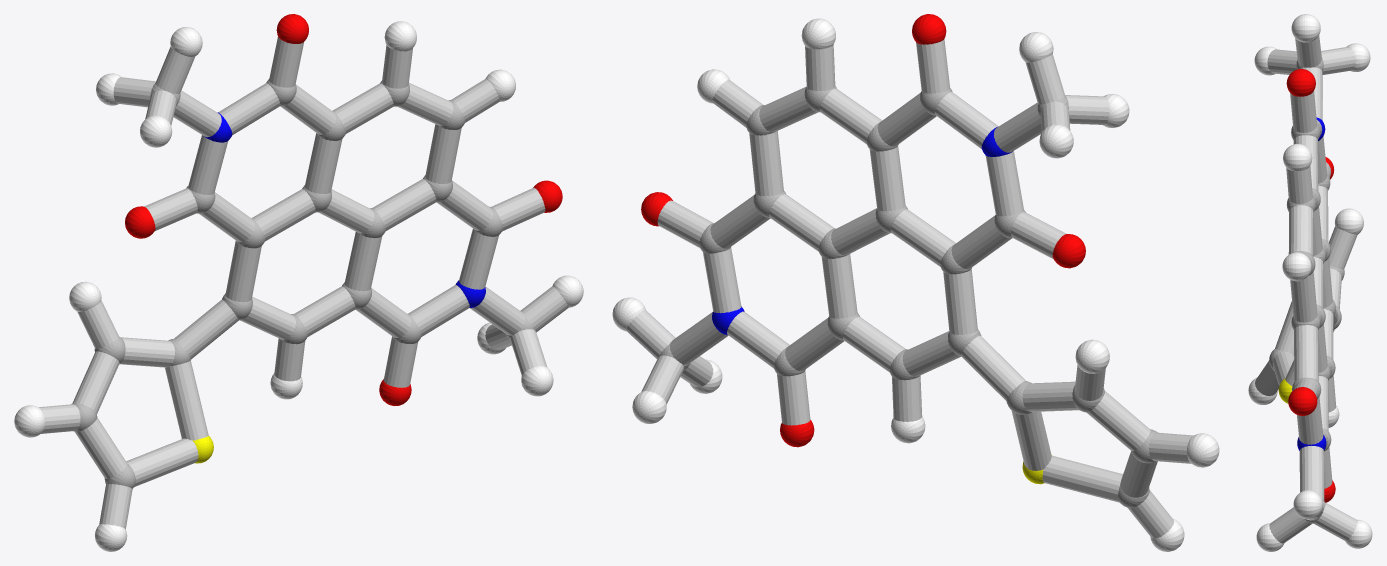
File: Dimethyl_Naphthalene_Dicarboximide_Phi_20_Theta_20_Thiophene.glb
The picture shows the model from 3 angles, left to right: view 1: azimuth 30°, elevation 25°; view 2: azimuth 150°, elevation 25°; view 3: azimuth 270°, elevation 25°; orthographic projection. The views are drawn at different scales.
Visible parts, largest first — view 1: grp14119, grp7241, grp1, grp12309, grp11585; view 2: grp14119, grp7241, grp1, grp12309, grp11585; view 3: grp14119, grp7241, grp1, grp12309, grp11585, grp13757.
Part boxes in pixels (box(x1,y1,x2,y2)): grp14119: box(39, 37, 568, 528); grp7241: box(14, 21, 583, 551); grp1: box(71, 79, 534, 488); grp12309: box(125, 14, 562, 405); grp11585: box(204, 112, 485, 307); grp14119: box(626, 39, 1193, 538); grp7241: box(612, 18, 1219, 551); grp1: box(659, 86, 1157, 507); grp12309: box(641, 14, 1085, 447); grp11585: box(712, 127, 1012, 334); grp14119: box(1255, 35, 1357, 543); grp7241: box(1248, 14, 1372, 551); grp1: box(1269, 58, 1344, 523); grp12309: box(1286, 69, 1335, 502); grp11585: box(1297, 117, 1326, 450); grp13757: box(1278, 378, 1292, 403).
Size of the model in its own units: 12.09 by 9.8 by 2.55.
